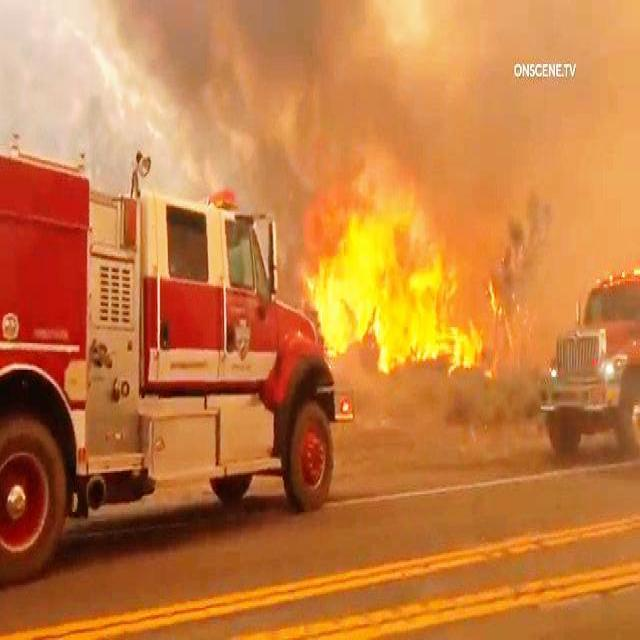Fire: (307, 152, 479, 380), (172, 7, 399, 169)
